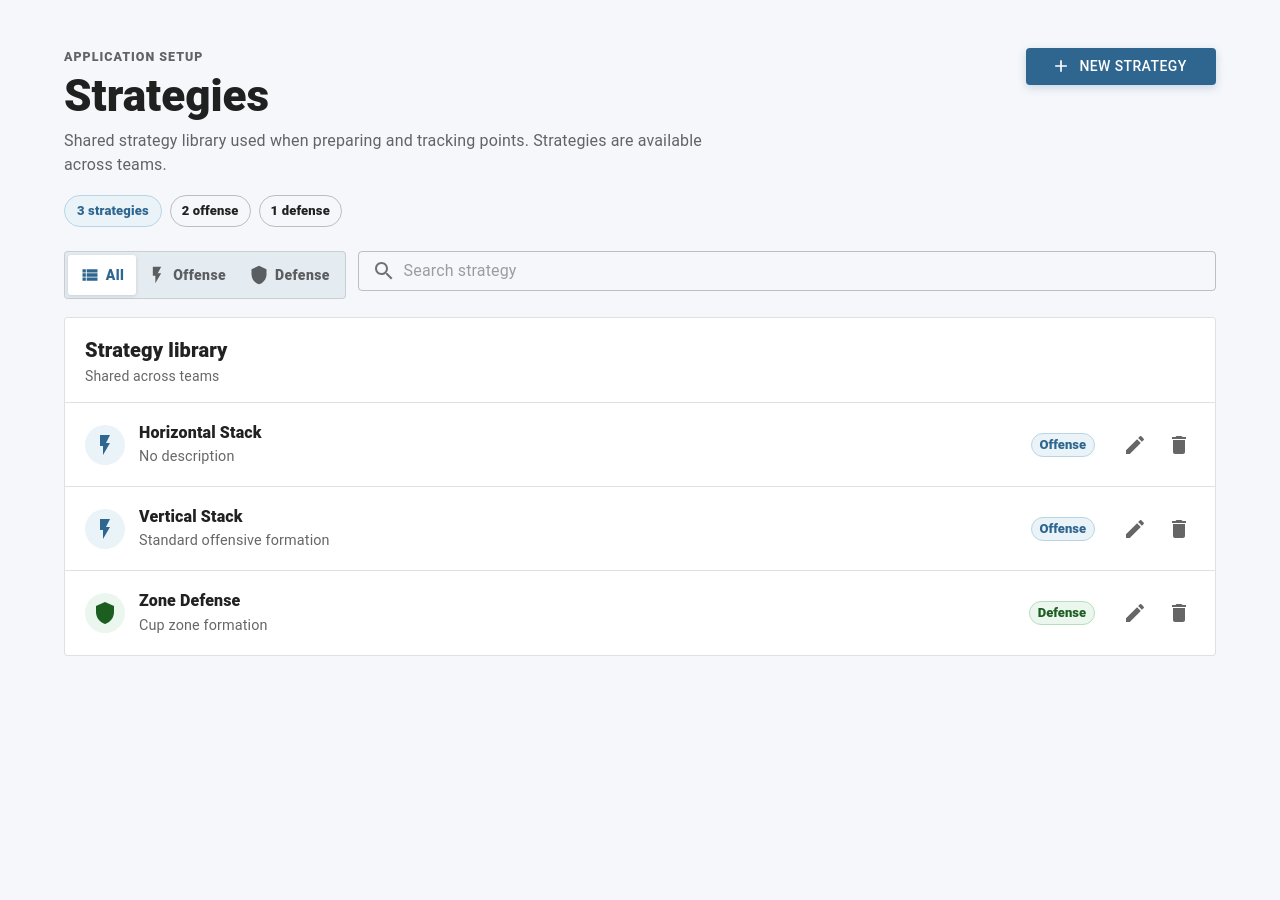
Test: StrategiesPage › deletes a strategy after confirmation
This screenshot has width=1280, height=900.
expect the text "Vertical Stack" is shown: met, box [139, 507, 243, 526]
Click the button named "Delete Vertical Stack": (1179, 528) [1159, 508, 1199, 548]
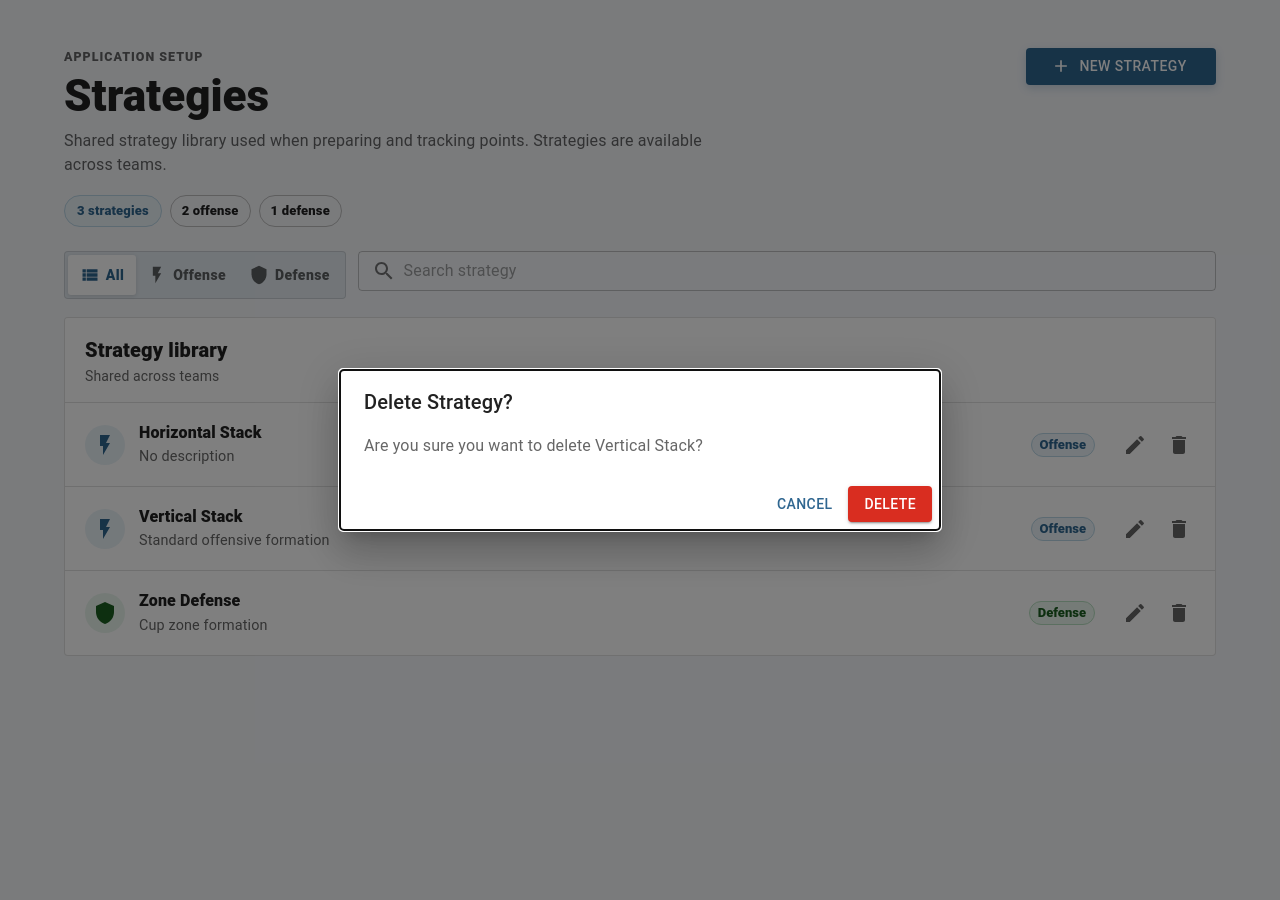
expect the text "Are you sure you want to delete Vertical Stack?" is shown: met, box [364, 436, 703, 455]
Click the button "Delete": (890, 504) [848, 486, 932, 522]
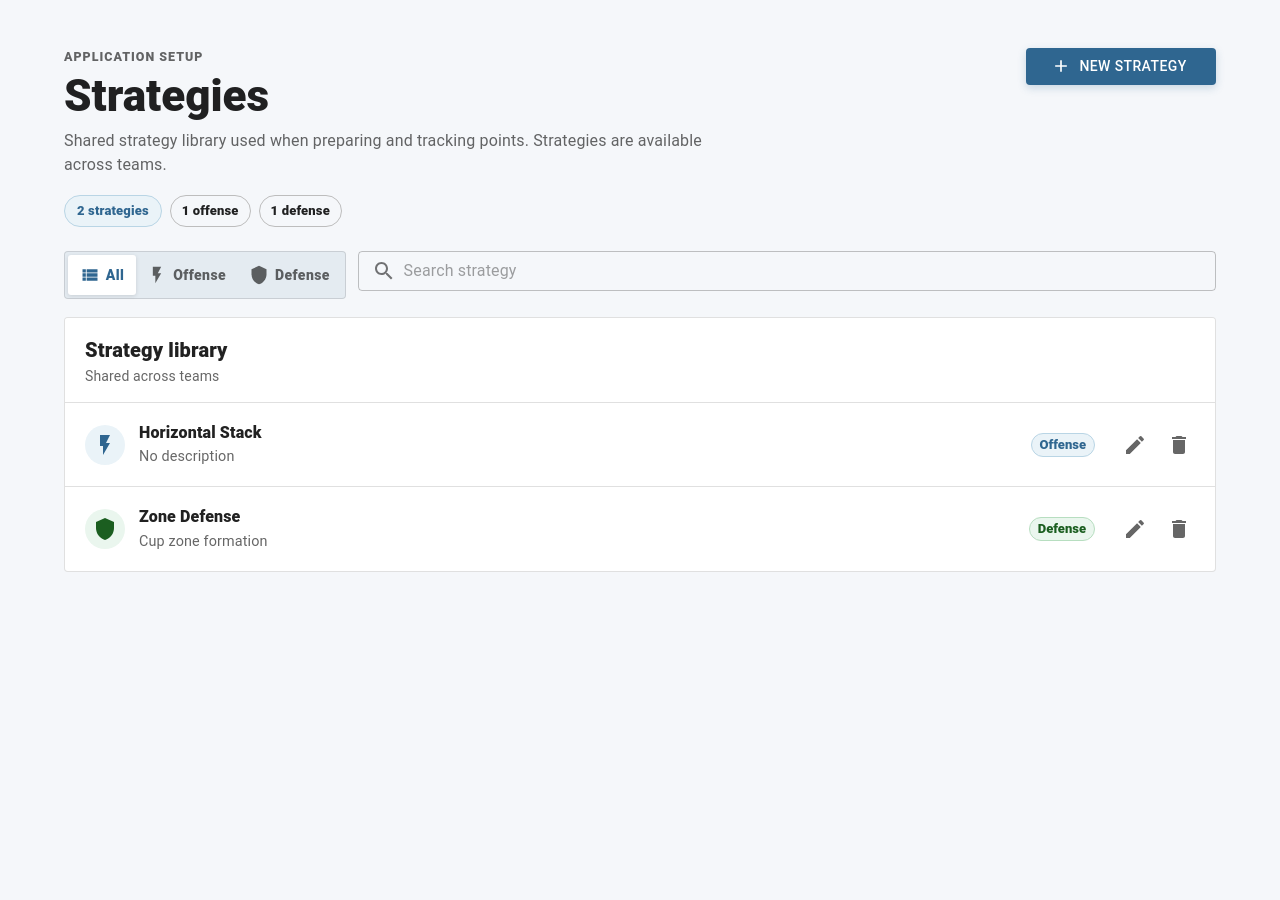
expect the button "Vertical Stack" is gone: met
